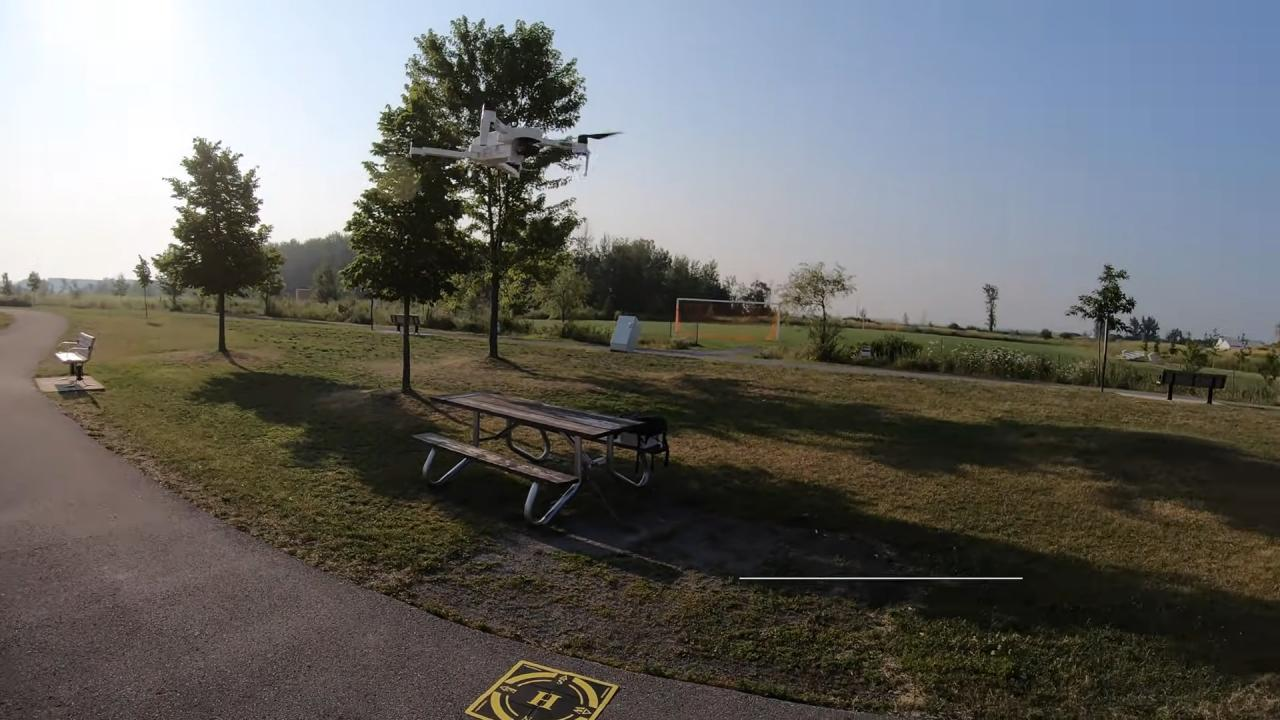Drone: (392, 86, 636, 200)
